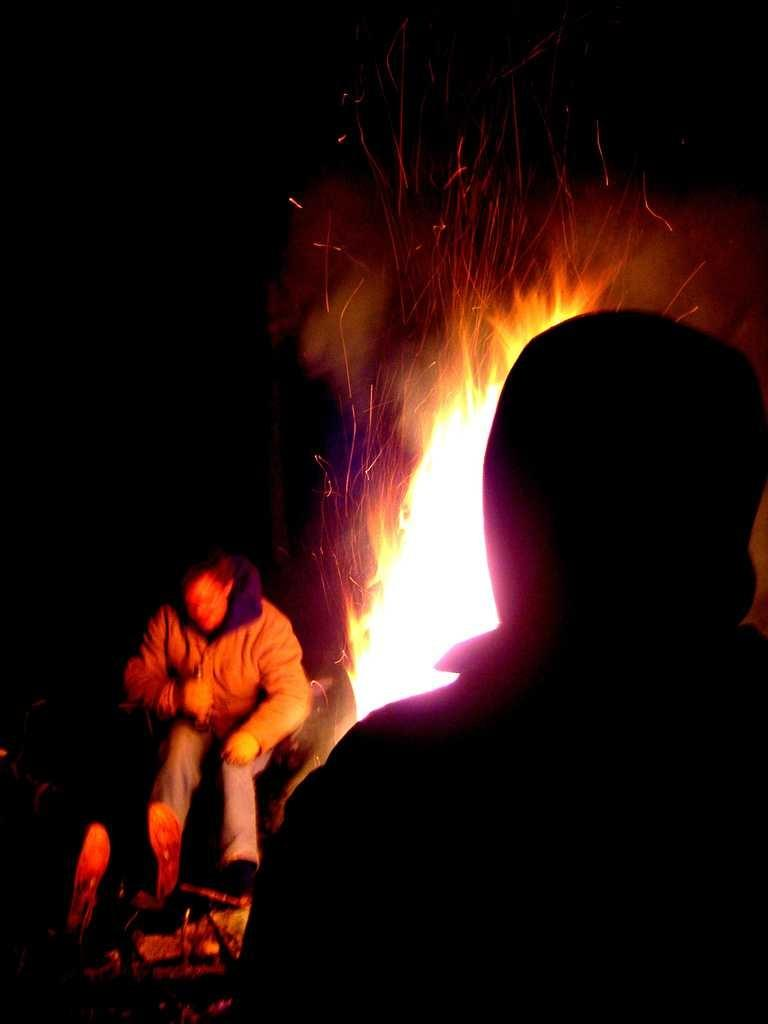fire: (377, 482, 482, 665)
